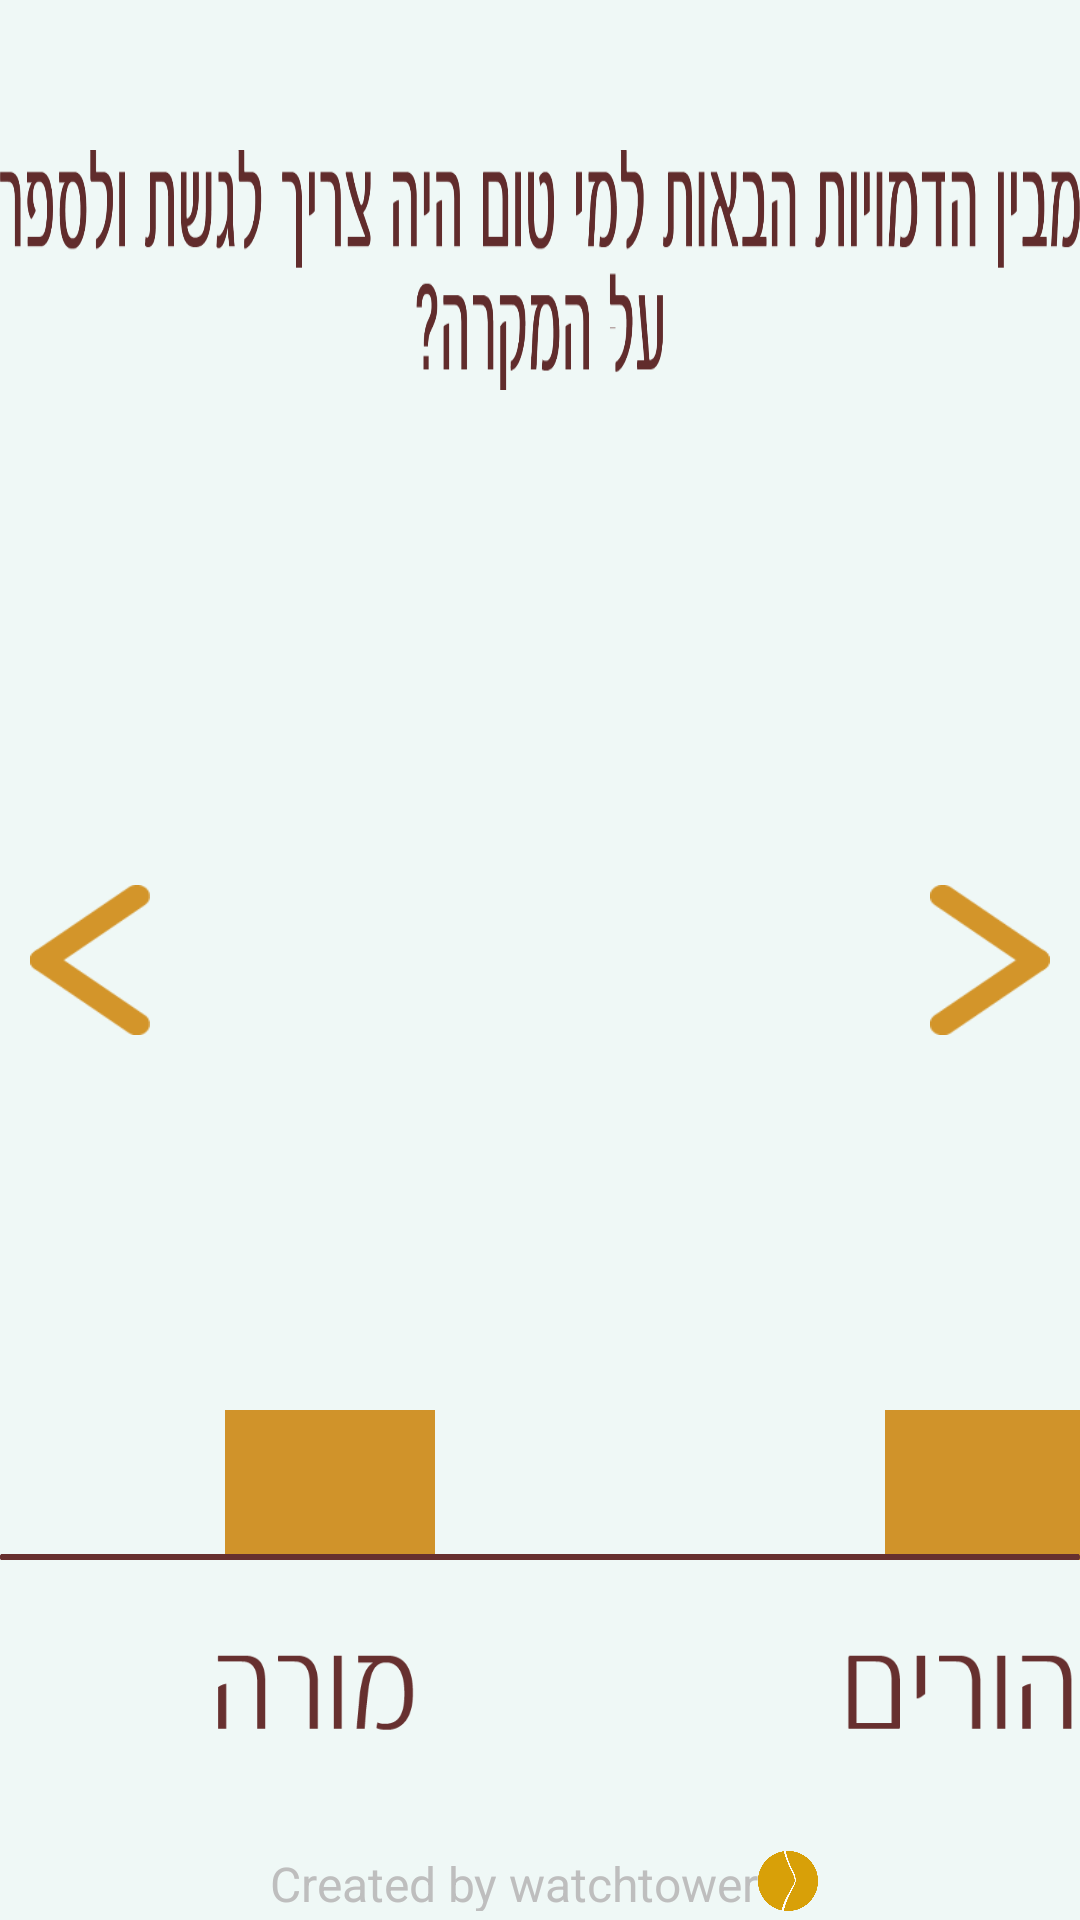

Named icons in this screenshot (1080 × 1920) and their centers, point (x, y):
back: point (90, 960)
next: point (990, 960)
